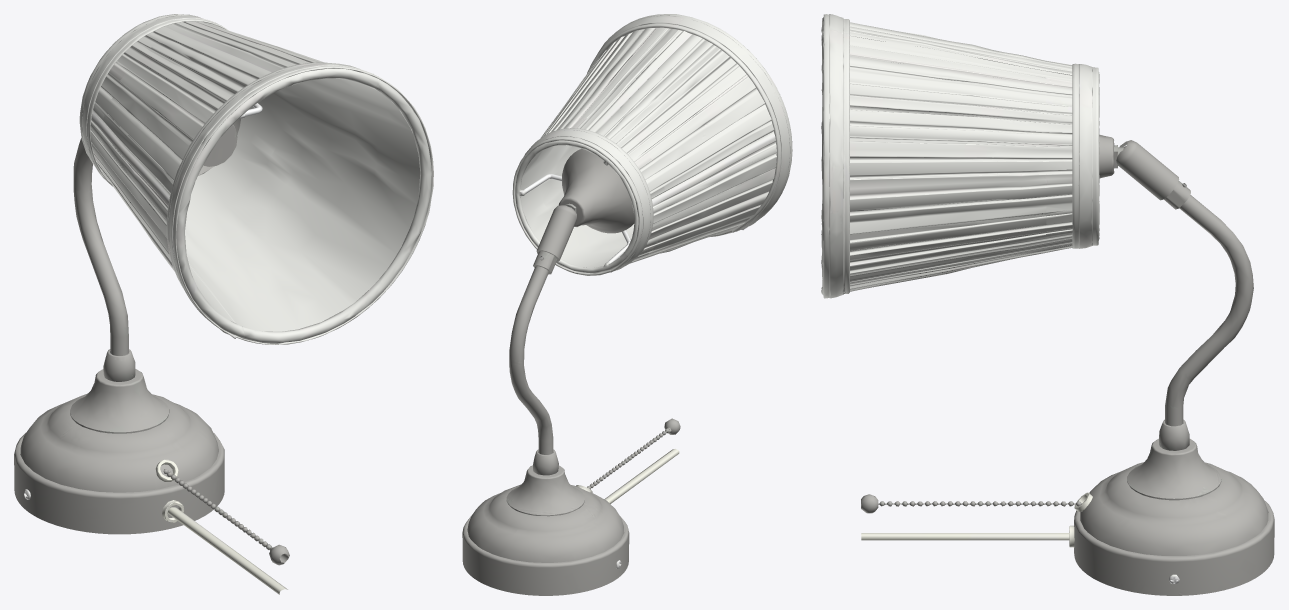
Rendered from arstid_lampa_scienna_60163876.glb.
3 renders of one model, left to right at view 1: azimuth 30°, elevation 25°; view 2: azimuth 150°, elevation 25°; view 3: azimuth 270°, elevation 25°, orthographic. The views are drawn at different scales.
Parts seen in each view (by area): view 1: arstid_lampa_scienna_60163876; view 2: arstid_lampa_scienna_60163876; view 3: arstid_lampa_scienna_60163876.
Boxes of the visible parts, box(x1,y1,x2,y2) form: arstid_lampa_scienna_60163876: box(14, 14, 433, 594); arstid_lampa_scienna_60163876: box(462, 14, 792, 595); arstid_lampa_scienna_60163876: box(821, 14, 1274, 595).
Bounding box in the file's own units: 0.1505 × 0.3077 × 0.24.
1 material, 1 textured.
